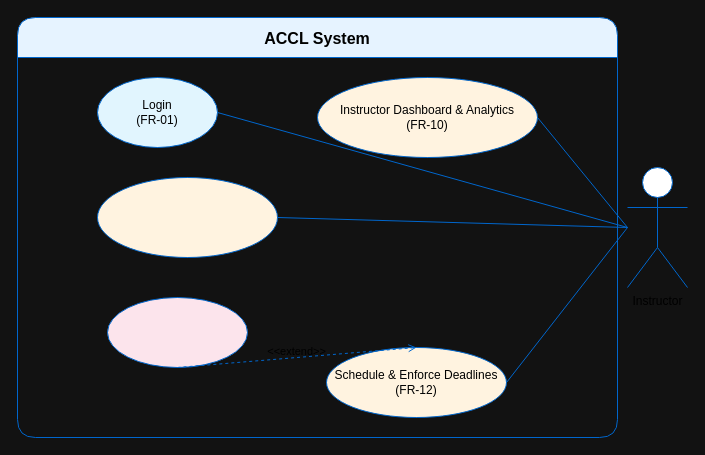
Image size: 705x455. Some labels were removed from this diagram. Each missing label, with the centre of its shape:
Create / Edit Assignment (FR-02): (x=187, y=217)
Notifications (FR-13): (x=177, y=332)
